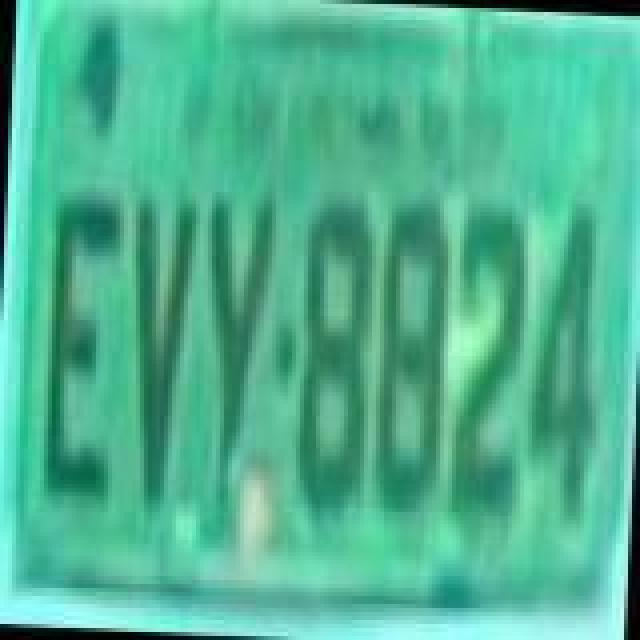2: (442, 198, 534, 530)
4: (524, 206, 612, 530)
8: (292, 192, 380, 520), (364, 190, 452, 514)
E: (34, 188, 126, 508)
V: (120, 194, 200, 510)
Y: (194, 188, 278, 500)
